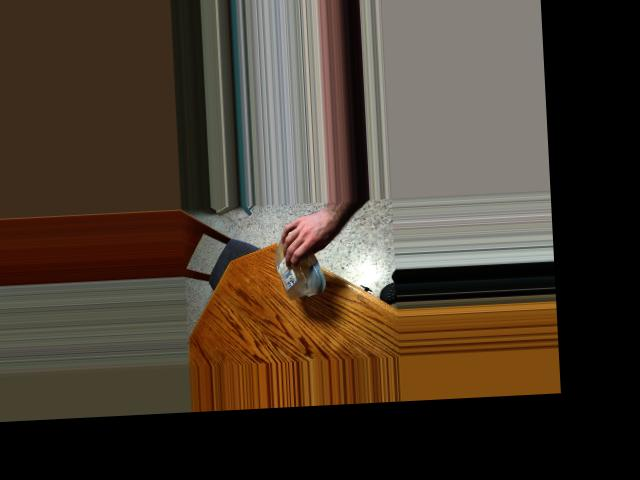cheese: (272, 238, 323, 295)
